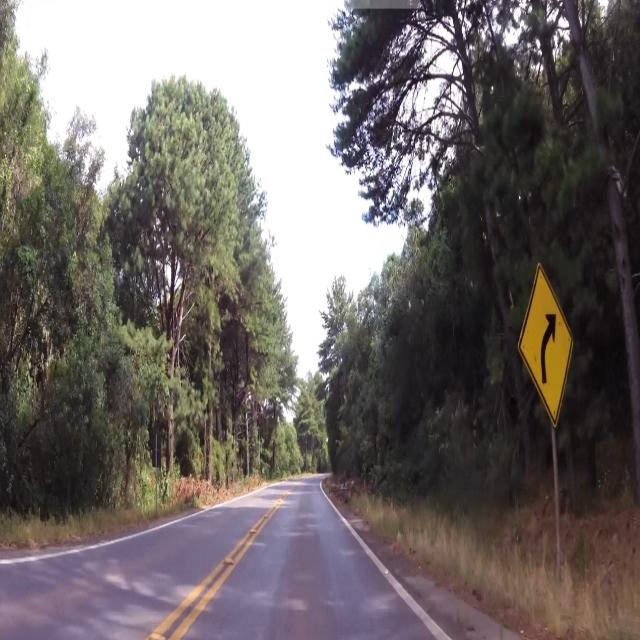A-2b: (513, 250, 580, 432)
